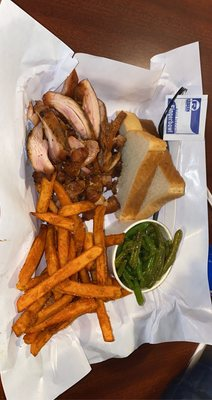curry: (3, 0, 209, 383)
